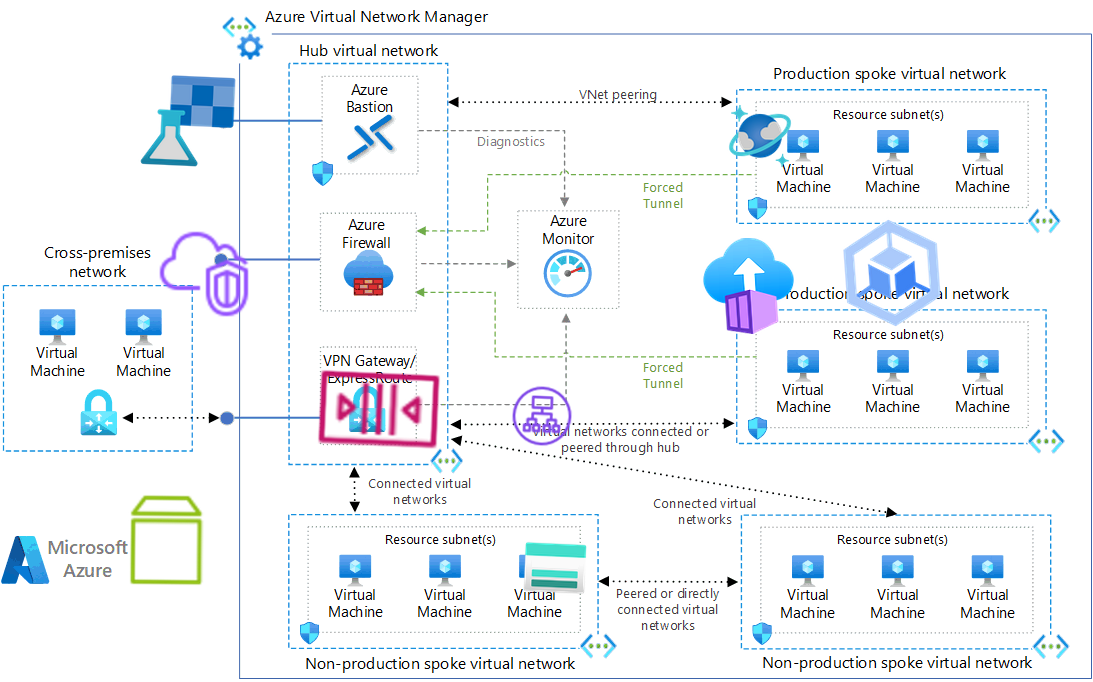aws_elastic_block_store_volume: (118, 491, 216, 589)
aws_elastic_load_balancing_application_load_balancer: (508, 382, 576, 450)
aws_simple_queue_service_queue: (312, 341, 446, 475)
aws_vpc_virtual_private_cloud_vpc: (155, 225, 253, 323)
azure_container_instances: (697, 234, 801, 338)
azure_cosmos_db: (726, 102, 794, 170)
azure_machine_learning_studio_workspaces: (137, 70, 239, 172)
azure_storage_accounts: (521, 534, 589, 602)
gcp_google_kubernetes_engine: (823, 204, 961, 342)
